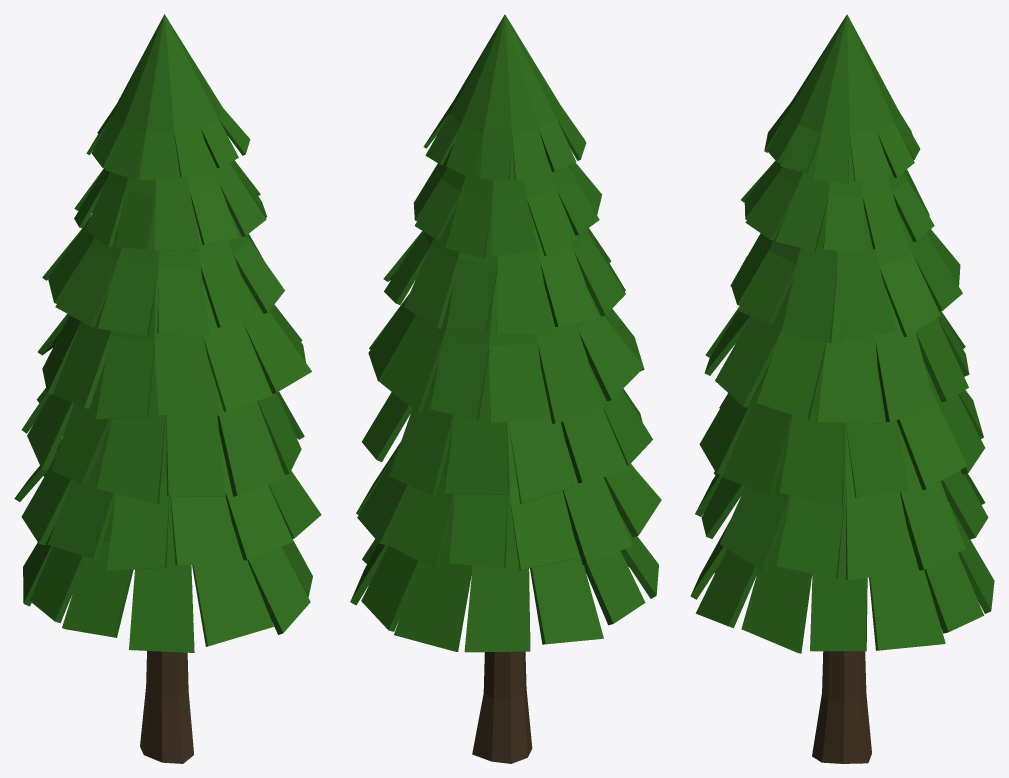
The model's file is tree5.glb.
3 views of the same model, side by side, from view 1: azimuth 30°, elevation 25°; view 2: azimuth 150°, elevation 25°; view 3: azimuth 270°, elevation 25° (orthographic).
Parts seen in each view (by area): view 1: Tree3_1; view 2: Tree3_1; view 3: Tree3_1.
Boxes of the visible parts, bbox=[...] form: Tree3_1: bbox=[14, 14, 321, 763]; Tree3_1: bbox=[350, 14, 661, 763]; Tree3_1: bbox=[690, 14, 994, 763].
Size of the model in its own units: 2.24 by 6.07 by 2.26.
